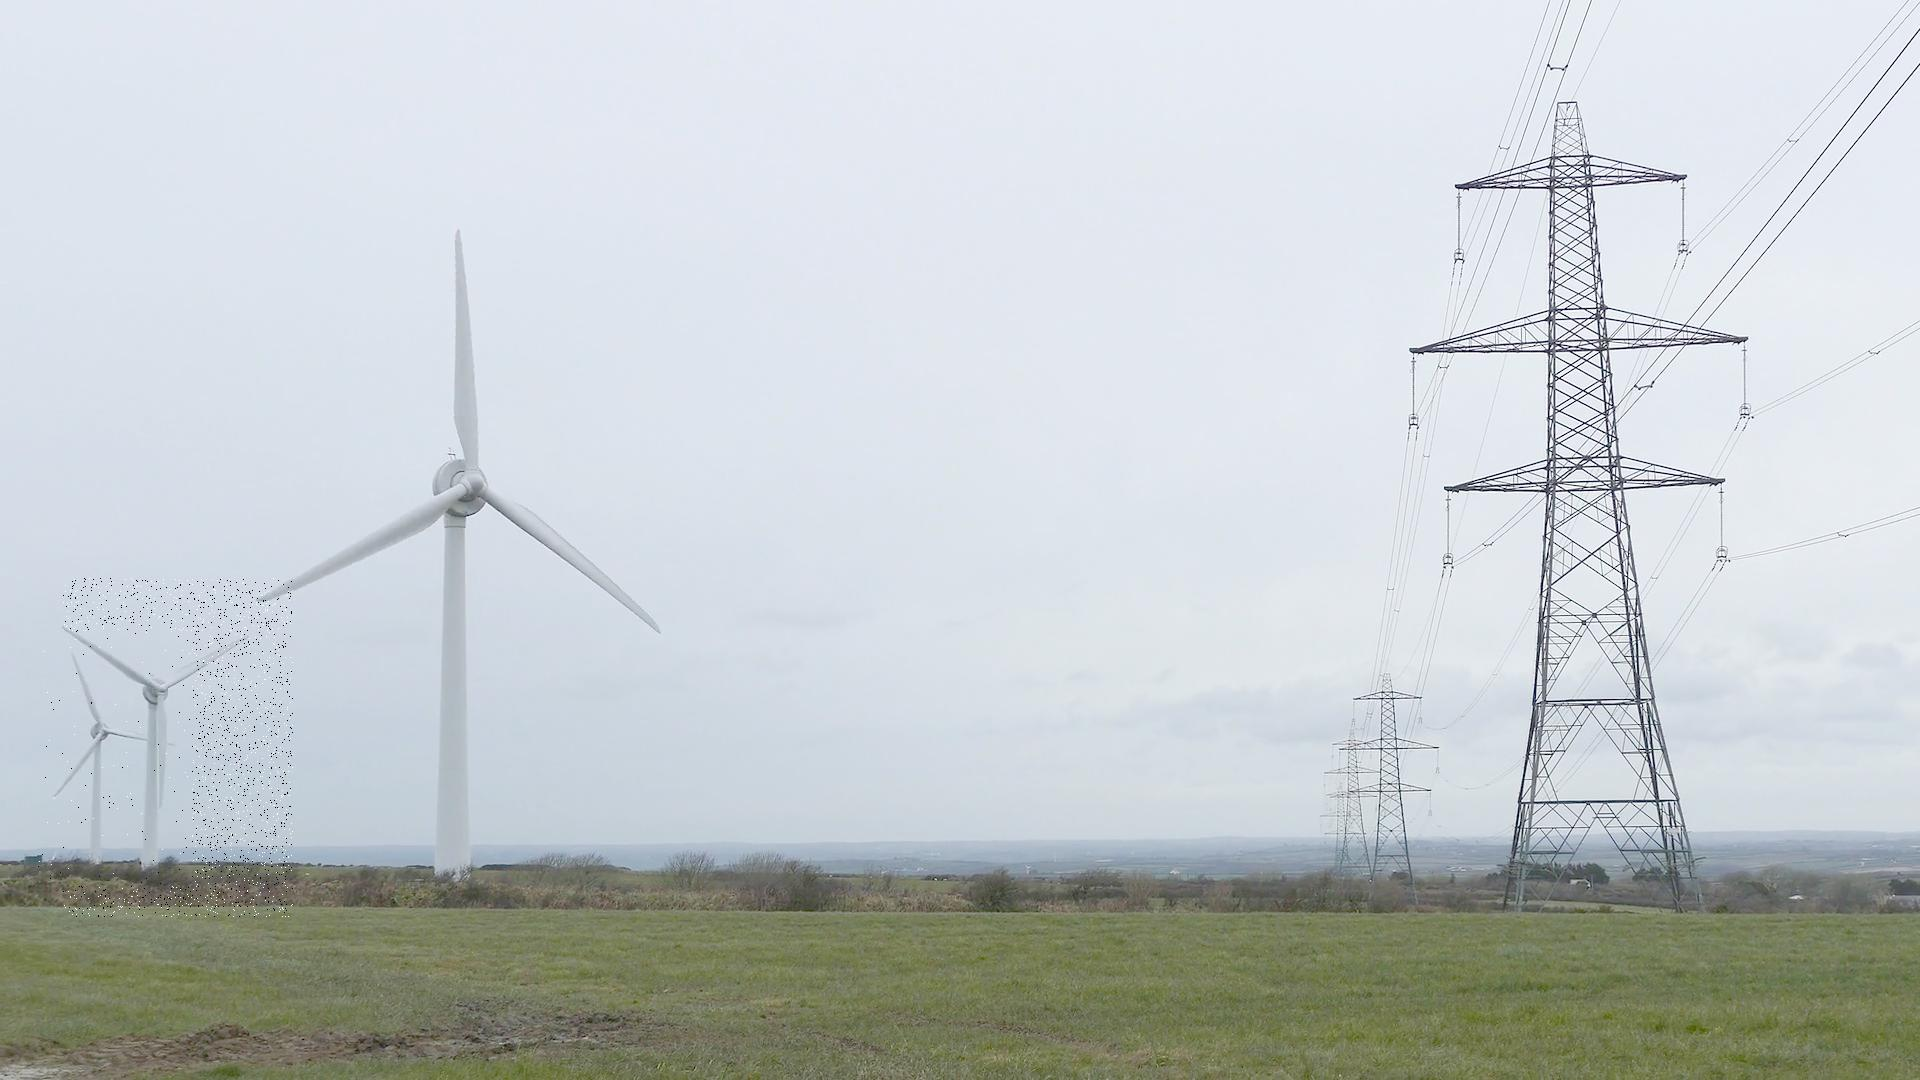cable tower: (1404, 98, 1746, 934), (1338, 671, 1440, 907), (1320, 731, 1379, 884), (1320, 785, 1364, 873)
turbine: (218, 175, 740, 949), (63, 579, 293, 918), (37, 633, 193, 887)
